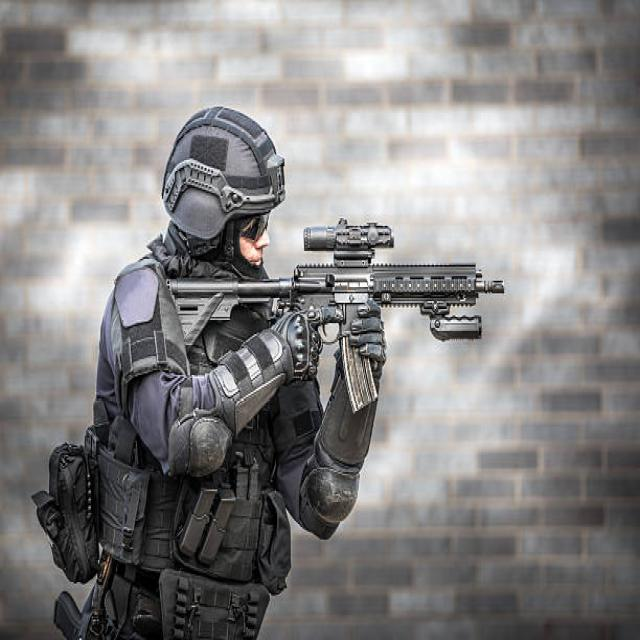soldier: (16, 93, 541, 640)
